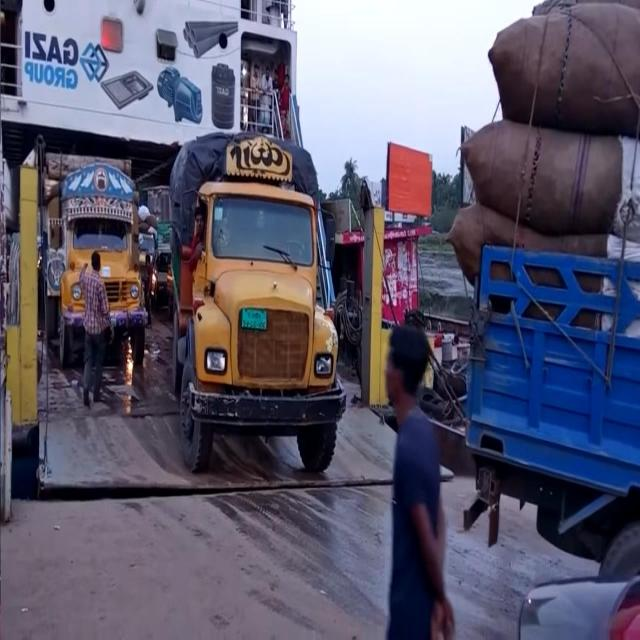car: (151, 236, 173, 327)
truck: (458, 137, 640, 605), (168, 132, 347, 474), (42, 134, 143, 363)
